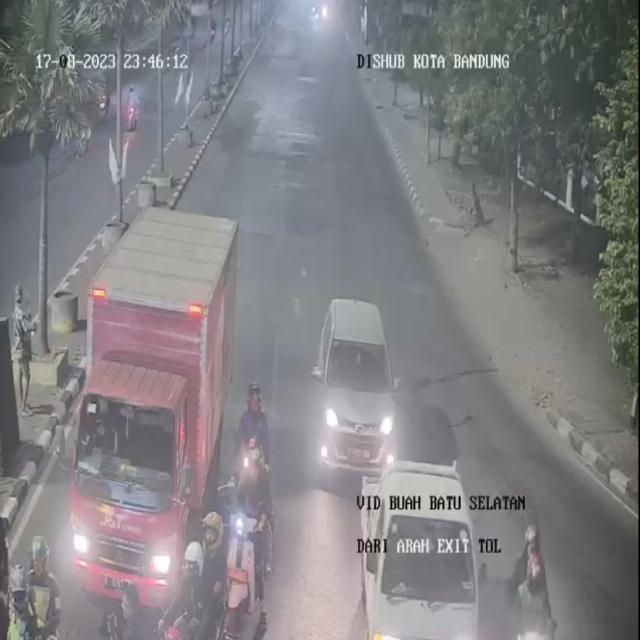cars: (65, 203, 226, 609), (361, 459, 489, 640), (315, 286, 402, 482)
motorcycle: (222, 464, 278, 640), (158, 502, 226, 640), (230, 370, 282, 548), (506, 523, 557, 640), (21, 531, 64, 639)
